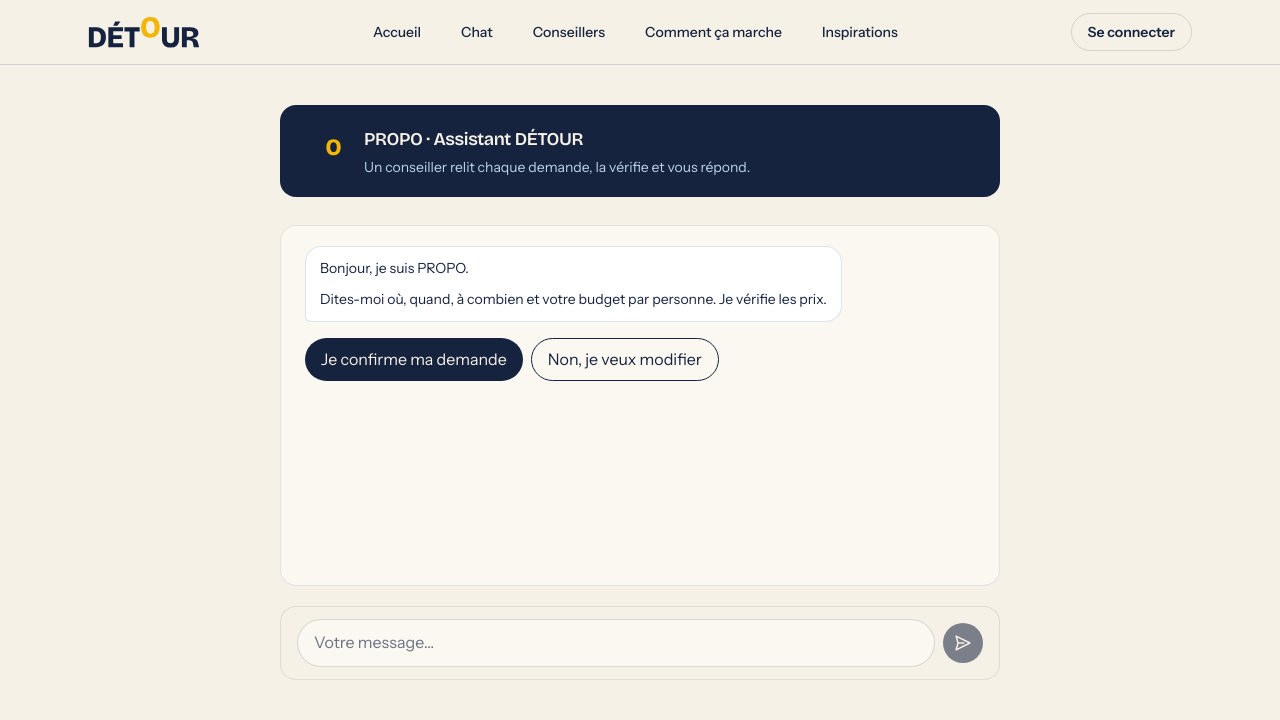
Test: ChatPage — dedicated window › restores a pending approval and confirms it end to end
Click the button "Je confirme ma demande": (414, 359) left=305, top=338, right=523, bottom=381
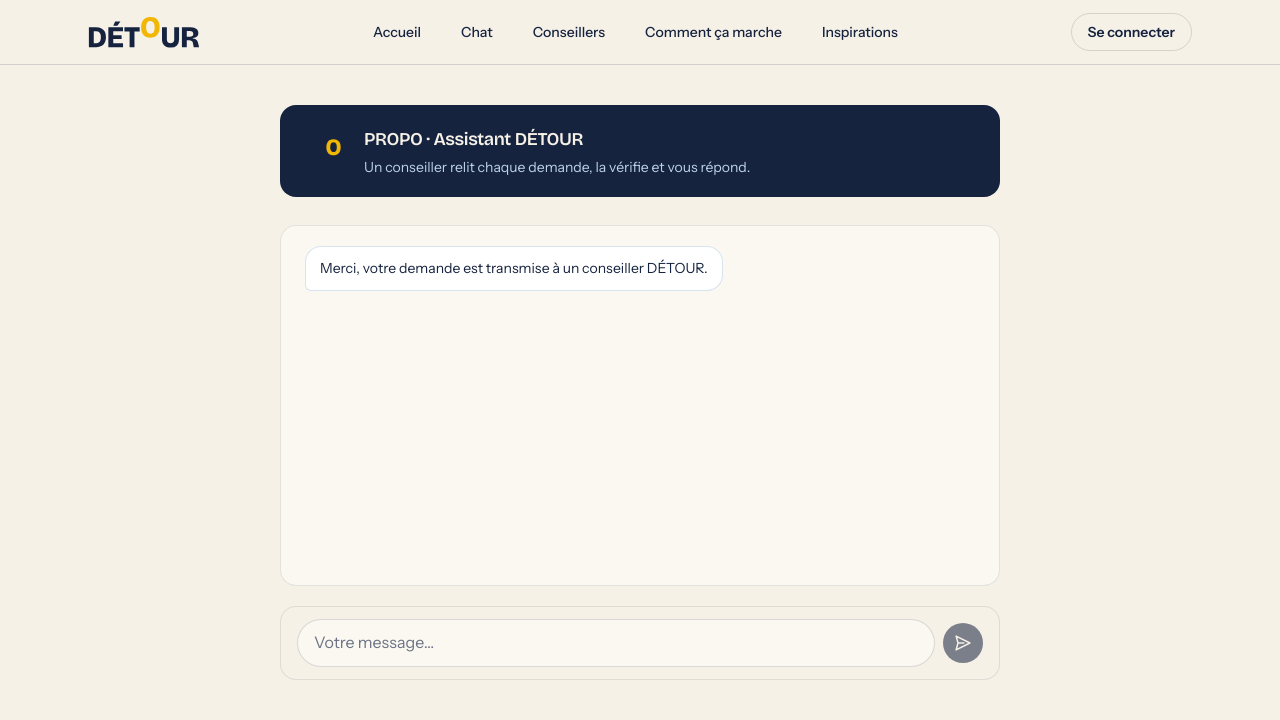
Expected: the text "Merci, votre demande est transmise à un conseiller DÉTOUR." is shown, left=320, top=257, right=708, bottom=280
